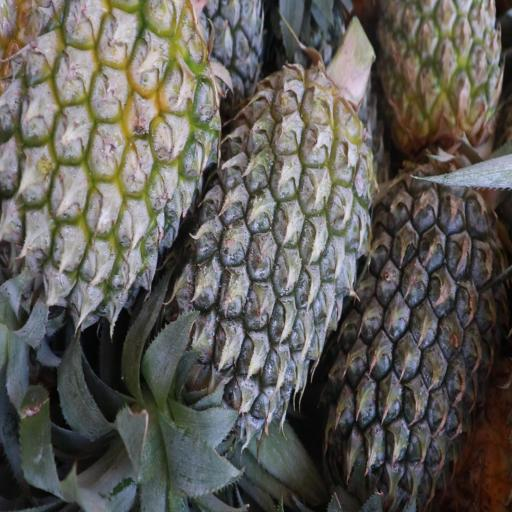------------------------------: (0, 0, 211, 303), (383, 0, 507, 159)
